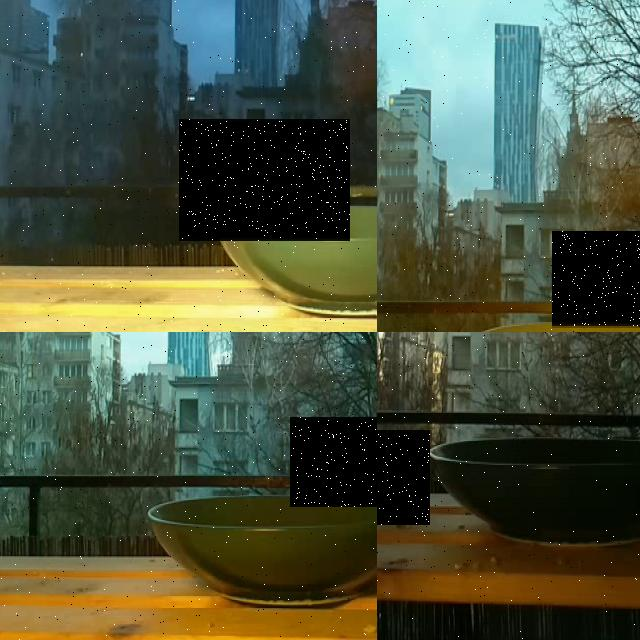Bogatka: (179, 119, 350, 241)
Modraszka: (552, 231, 640, 327), (290, 417, 377, 506), (377, 430, 430, 524)
